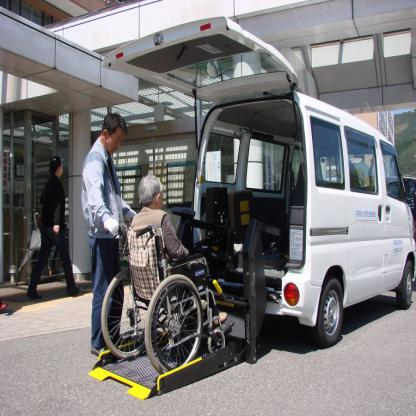wheelchair: (101, 176, 237, 378)
